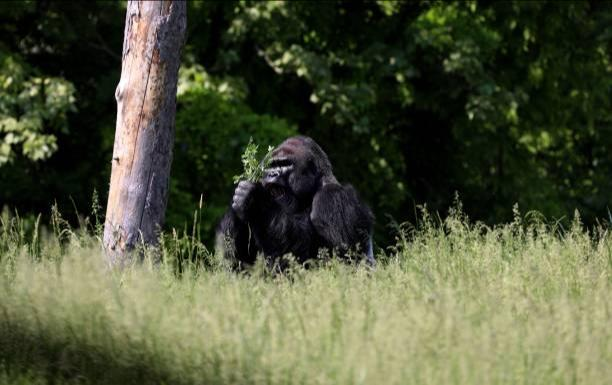gorille_Autres: (197, 120, 375, 274)
